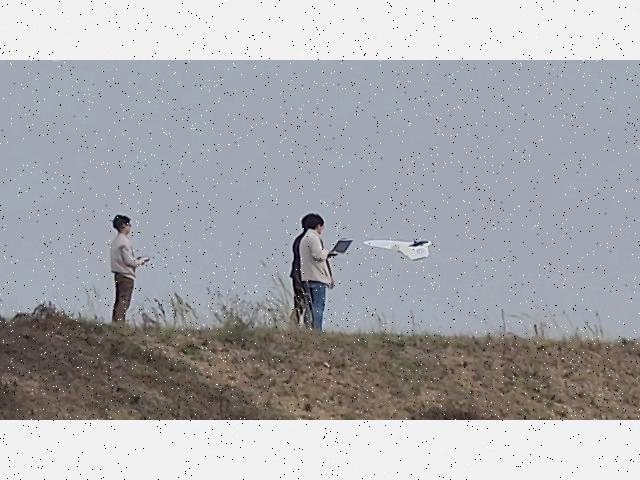Anti-Drone: (362, 238, 434, 262)
